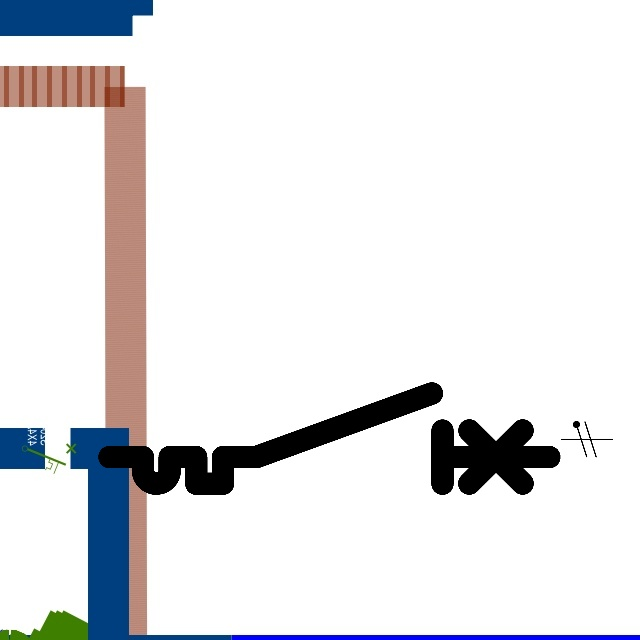interruptor_termomagnetico: (98, 382, 561, 495)
